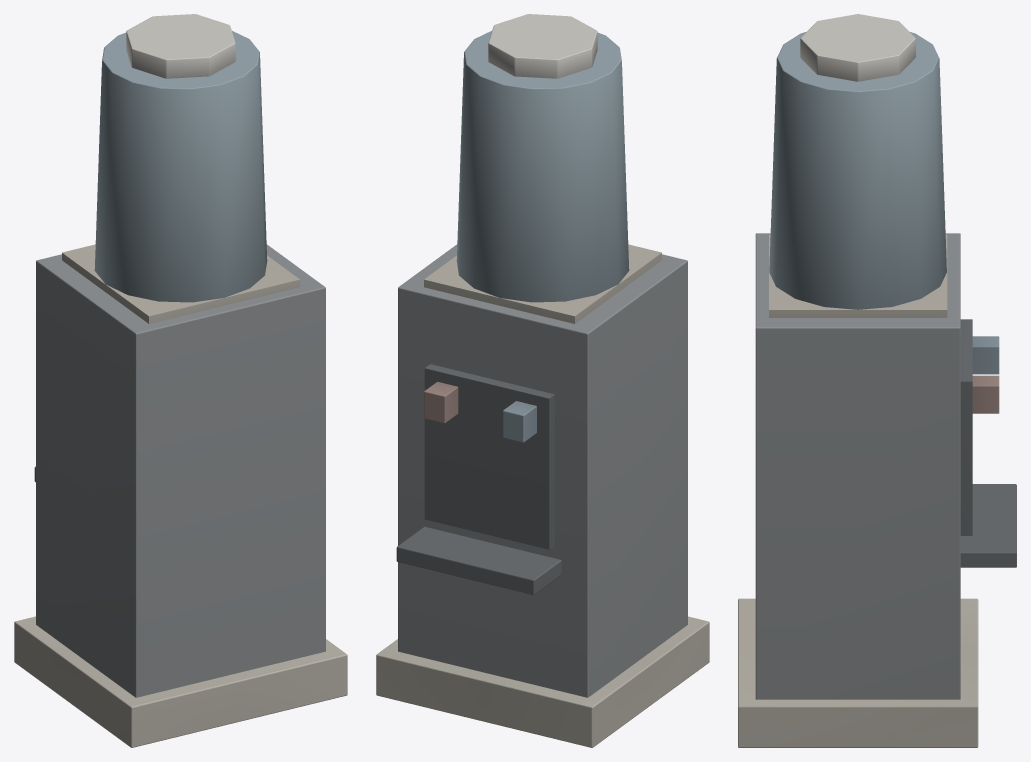
Rendered from water_cooler.glb.
3 views of the same model, side by side, from view 1: azimuth 30°, elevation 25°; view 2: azimuth 150°, elevation 25°; view 3: azimuth 270°, elevation 25° (orthographic). The views are drawn at different scales.
Bounding box in the file's own units: 0.66 × 1.87 × 0.72.
